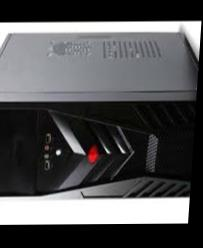pc: (0, 24, 201, 200)
